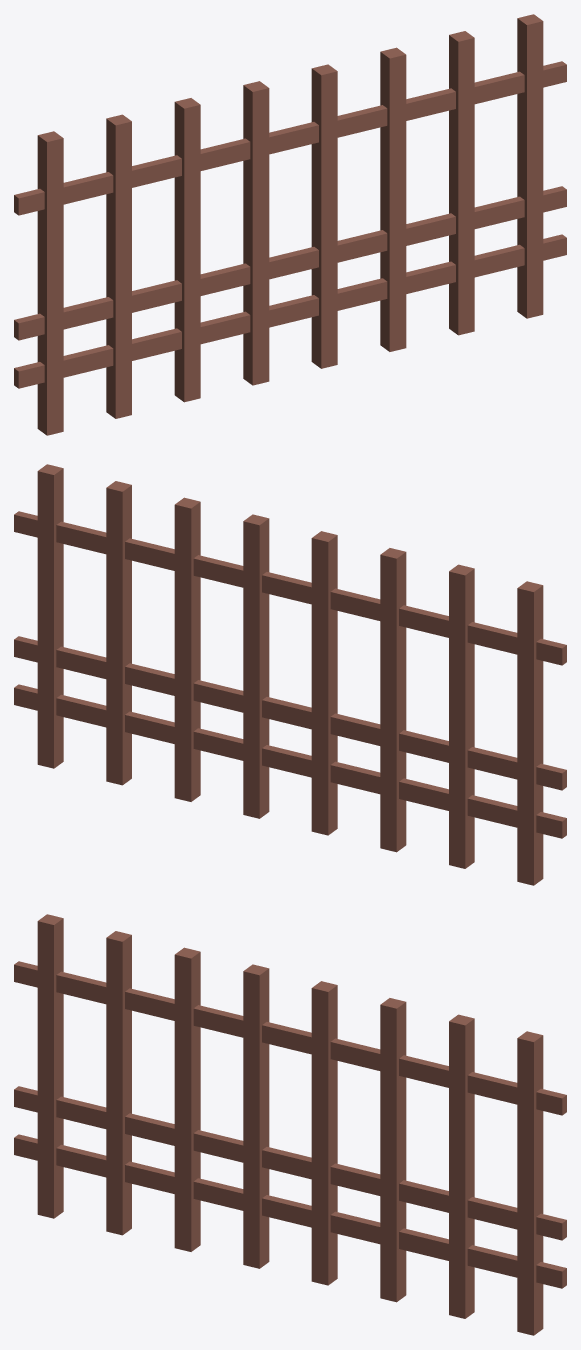
Rendered from fence_v2.fbx.
3 renders of one model, top to bottom at view 1: azimuth 30°, elevation 25°; view 2: azimuth 150°, elevation 25°; view 3: azimuth 330°, elevation 25°, orthographic.
Parts seen in each view (by area): view 1: fence2; view 2: fence2; view 3: fence2.
Boxes of the visible parts, <box> form: fence2: <box>14,14,566,435</box>; fence2: <box>14,464,566,885</box>; fence2: <box>14,914,566,1335</box>.
Bounding box in the file's own units: 1 × 0.5118 × 0.03.
